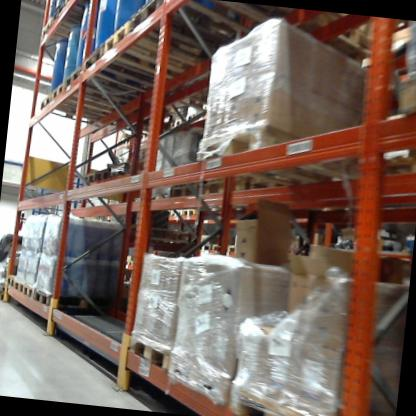pallet: (191, 123, 370, 211), (100, 18, 216, 83), (127, 0, 253, 57), (63, 62, 174, 113), (81, 45, 176, 100), (228, 371, 344, 416), (161, 345, 236, 412), (282, 11, 392, 55), (35, 94, 122, 137), (48, 80, 136, 120), (111, 220, 197, 250), (33, 287, 117, 316), (123, 331, 173, 379), (389, 63, 416, 121), (40, 18, 87, 51), (49, 1, 92, 35), (167, 180, 208, 211), (109, 160, 138, 190), (93, 167, 129, 186), (181, 204, 213, 221), (80, 169, 107, 188), (181, 109, 206, 129), (19, 279, 37, 300), (224, 240, 240, 256), (132, 129, 149, 143), (11, 275, 24, 291), (5, 272, 16, 290), (0, 286, 13, 301), (199, 240, 213, 253), (168, 206, 183, 218), (173, 113, 186, 126), (211, 242, 226, 253), (116, 135, 131, 146), (121, 256, 135, 267), (67, 0, 97, 5), (0, 279, 11, 292)
